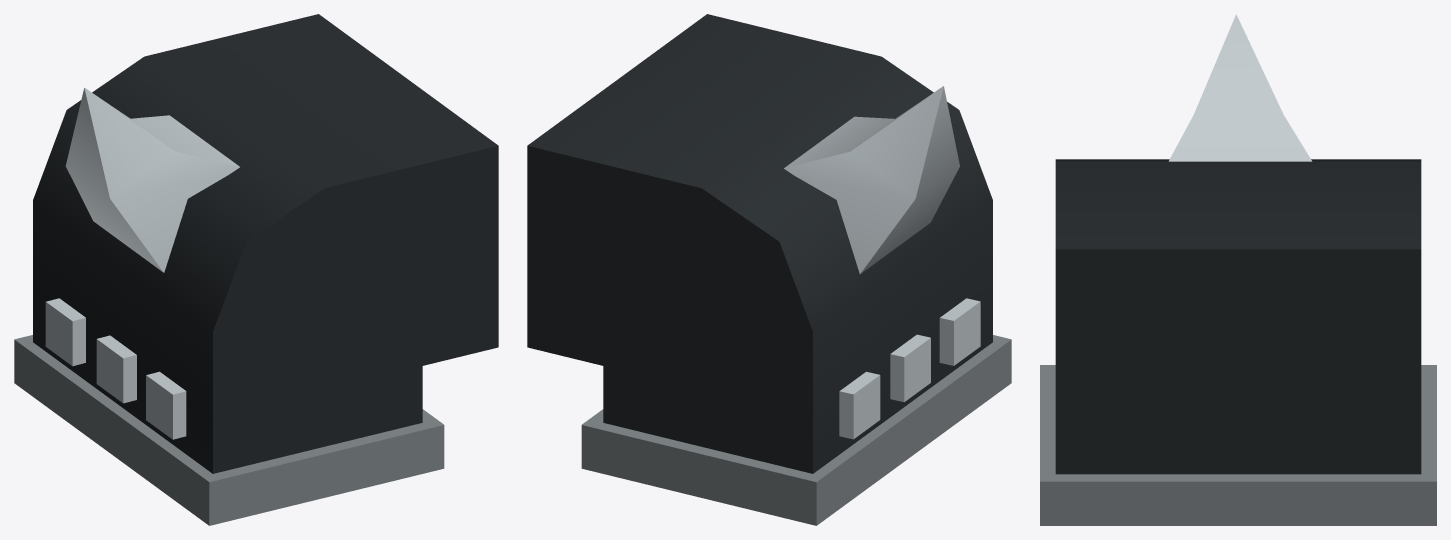
The model's file is Shoulder 05.FBX.
3 views of the same model, side by side, from view 1: azimuth 30°, elevation 25°; view 2: azimuth 150°, elevation 25°; view 3: azimuth 270°, elevation 25° (orthographic).
Visible parts, largest first — view 1: Shoulder 05; view 2: Shoulder 05; view 3: Shoulder 05.
Boxes of the visible parts, x1=… form: Shoulder 05: x1=14, y1=14, x2=498, y2=525; Shoulder 05: x1=527, y1=14, x2=1011, y2=525; Shoulder 05: x1=1040, y1=14, x2=1436, y2=525.
Size of the model in its own units: 24.48 by 26.94 by 25.42.
Materials: 1 (1 with a texture image).
